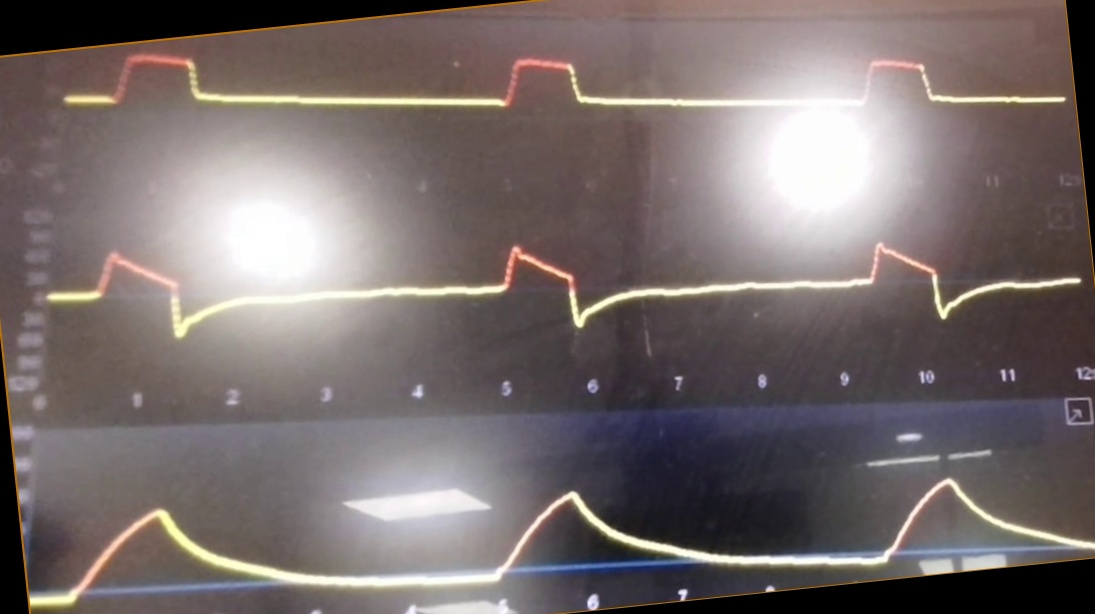Normal Flow: (47, 221, 1084, 368)
Normal Volume: (37, 452, 1095, 604)
